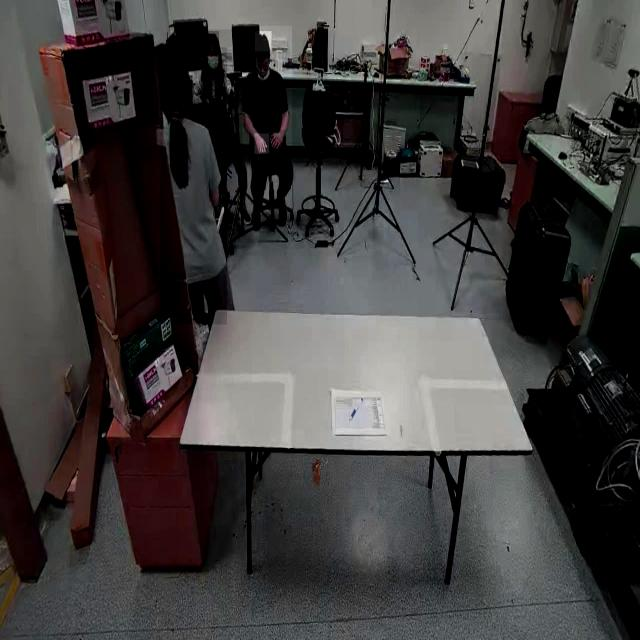face_mask: (207, 50, 219, 74)
face_nomask: (255, 56, 271, 81)
hand_noglove: (254, 133, 269, 155), (270, 130, 286, 150)
head_nohelmet: (160, 48, 188, 76), (254, 31, 272, 53), (205, 31, 219, 50)
person: (160, 47, 227, 325), (242, 26, 292, 232), (200, 29, 238, 112)
shoes: (273, 187, 291, 229), (237, 200, 254, 232), (250, 199, 265, 235)
